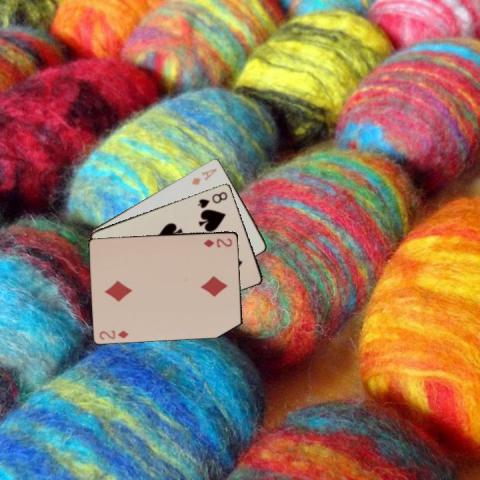2d: (97, 327, 130, 341), (201, 235, 233, 248)
8s: (194, 189, 228, 209)
Ad: (188, 165, 218, 186)
